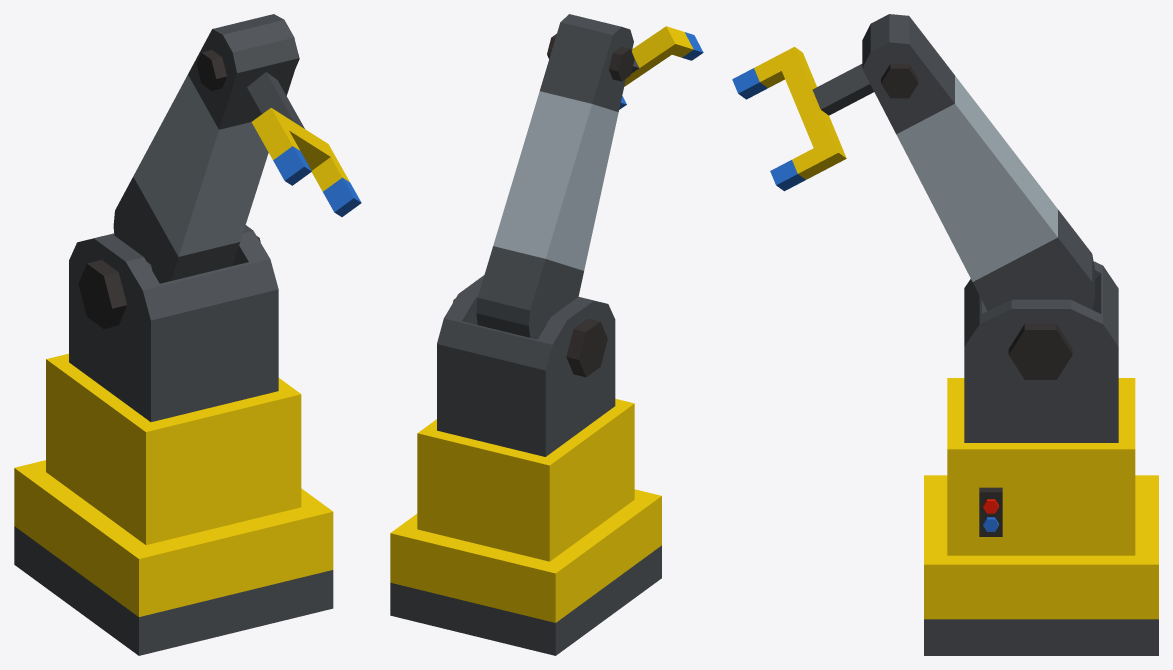
The model's file is Robot1.fbx.
3 views of the same model, side by side, from view 1: azimuth 30°, elevation 25°; view 2: azimuth 150°, elevation 25°; view 3: azimuth 270°, elevation 25° (orthographic). The views are drawn at different scales.
Visible parts, largest first — view 1: Robot2; view 2: Robot2; view 3: Robot2.
Part boxes in pixels (x1=…): Robot2: x1=14, y1=14, x2=361, y2=655; Robot2: x1=390, y1=14, x2=703, y2=655; Robot2: x1=732, y1=14, x2=1158, y2=655.
Bounding box in the file's own units: 126 × 383 × 254.
